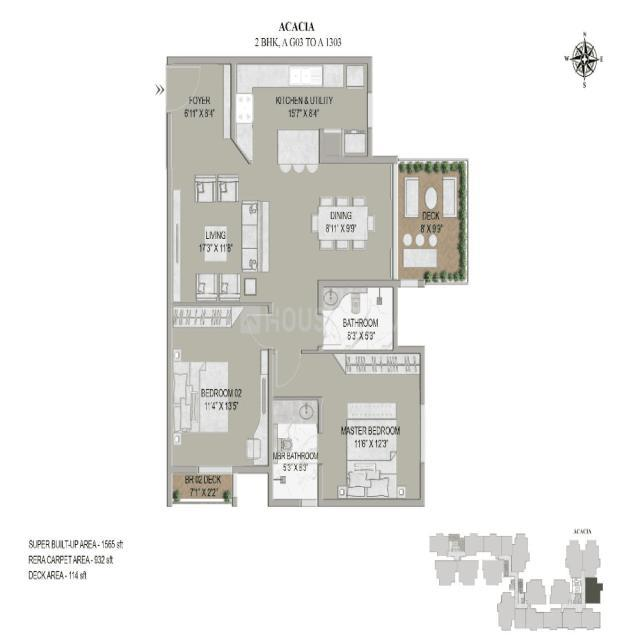Bedroom: (168, 308, 273, 474)
Bedroom with Toilet: (268, 348, 424, 507)
Dining: (308, 192, 376, 254)
Enterance-Foyer: (167, 56, 236, 165)
Kitchen: (231, 55, 374, 162)
Living: (167, 163, 272, 310)
Toilet: (316, 278, 399, 352), (268, 398, 323, 508)
